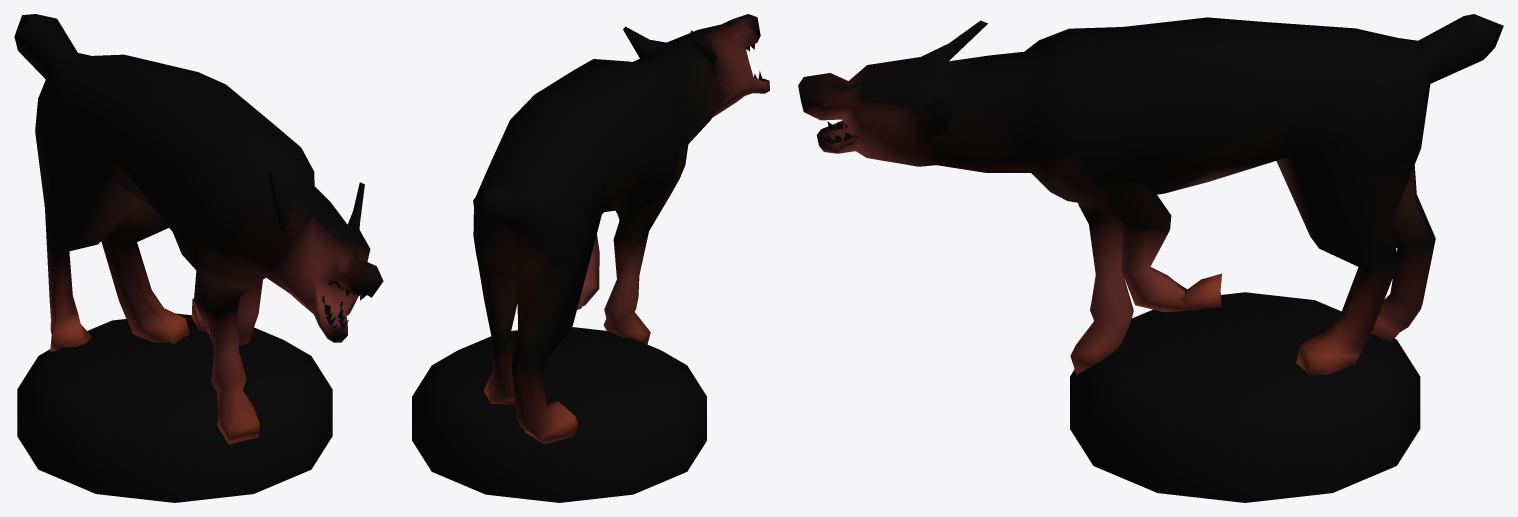
File: export_war_dog_01.fbx
The picture shows the model from 3 angles, left to right: view 1: azimuth 30°, elevation 25°; view 2: azimuth 150°, elevation 25°; view 3: azimuth 270°, elevation 25°; orthographic projection. The views are drawn at different scales.
Visible parts, largest first — view 1: guard_dog_lp.012; view 2: guard_dog_lp.012; view 3: guard_dog_lp.012.
Boxes of the visible parts, box(x1,y1,x2,y2) form: guard_dog_lp.012: box(14, 14, 383, 502); guard_dog_lp.012: box(412, 14, 769, 502); guard_dog_lp.012: box(798, 14, 1503, 502).
Size of the model in its own units: 0.9882 by 1.24 by 1.99.
